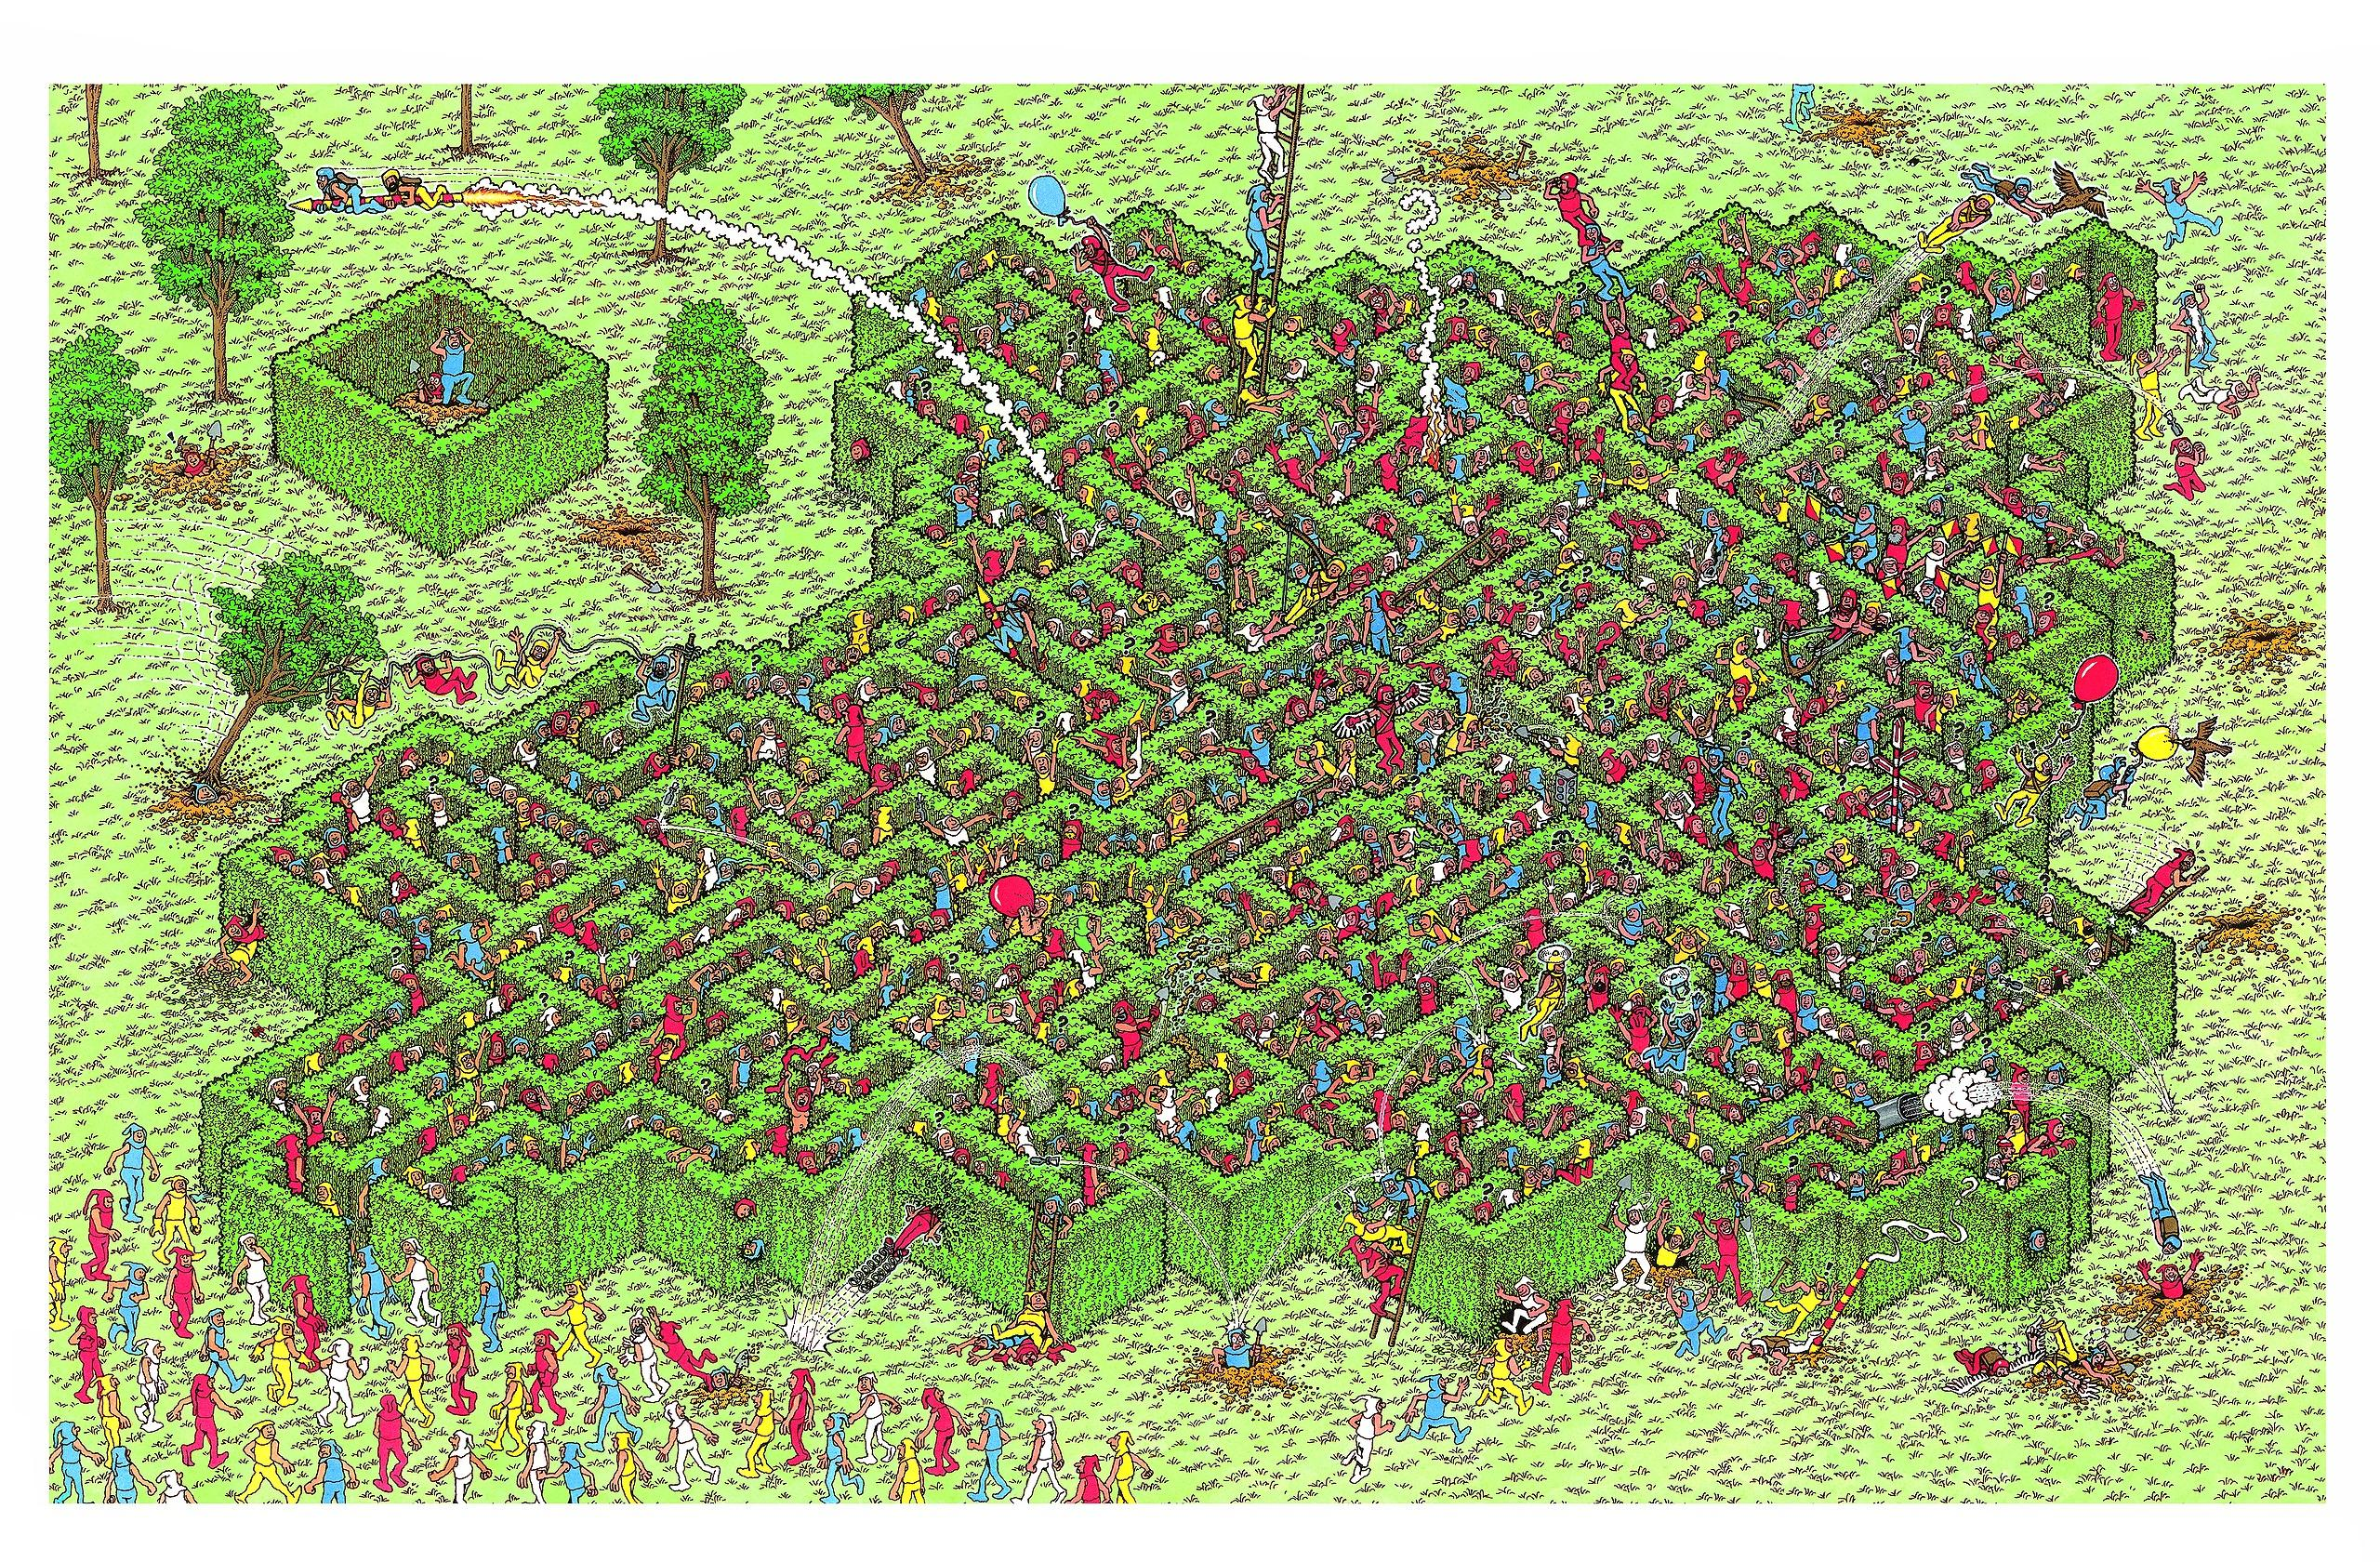waldo: (1322, 676, 1338, 703)
